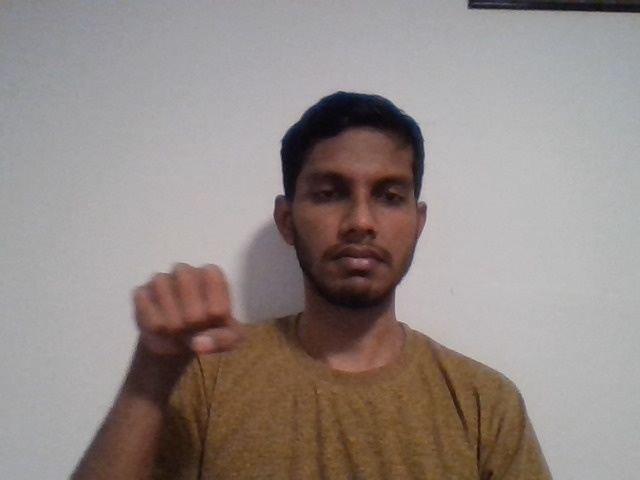yes: (108, 253, 280, 374)
